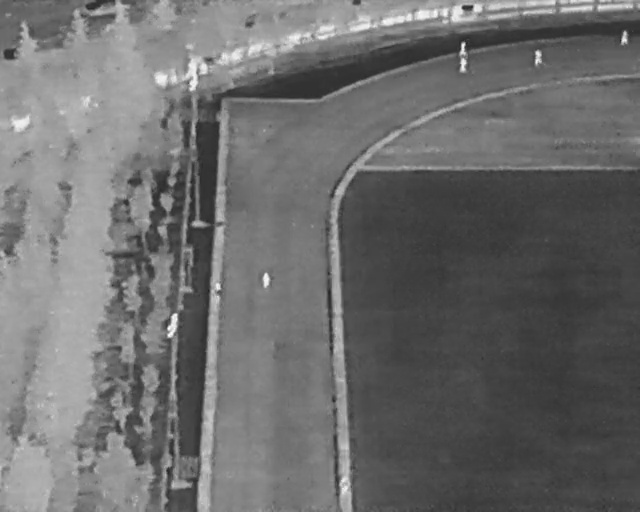Person: (339, 474, 351, 497), (213, 281, 222, 302), (533, 47, 542, 67), (262, 270, 271, 288), (459, 40, 467, 57), (620, 28, 628, 45), (460, 56, 467, 73)
